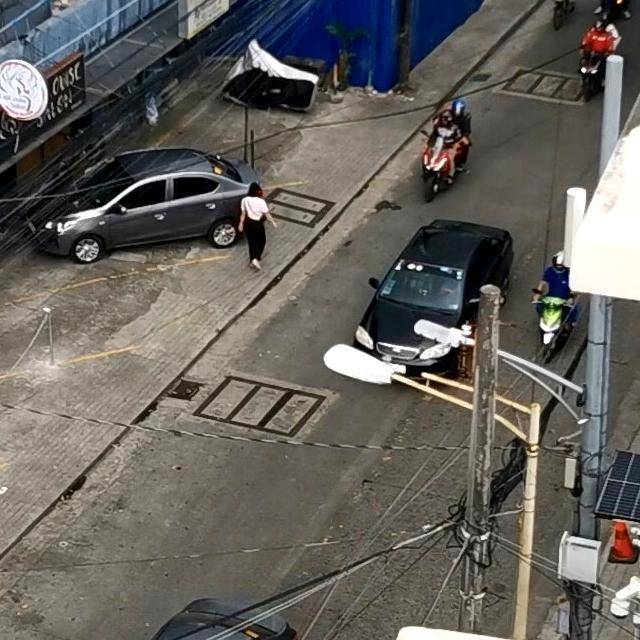Car: (348, 218, 510, 371), (32, 167, 250, 263), (68, 598, 301, 640)
